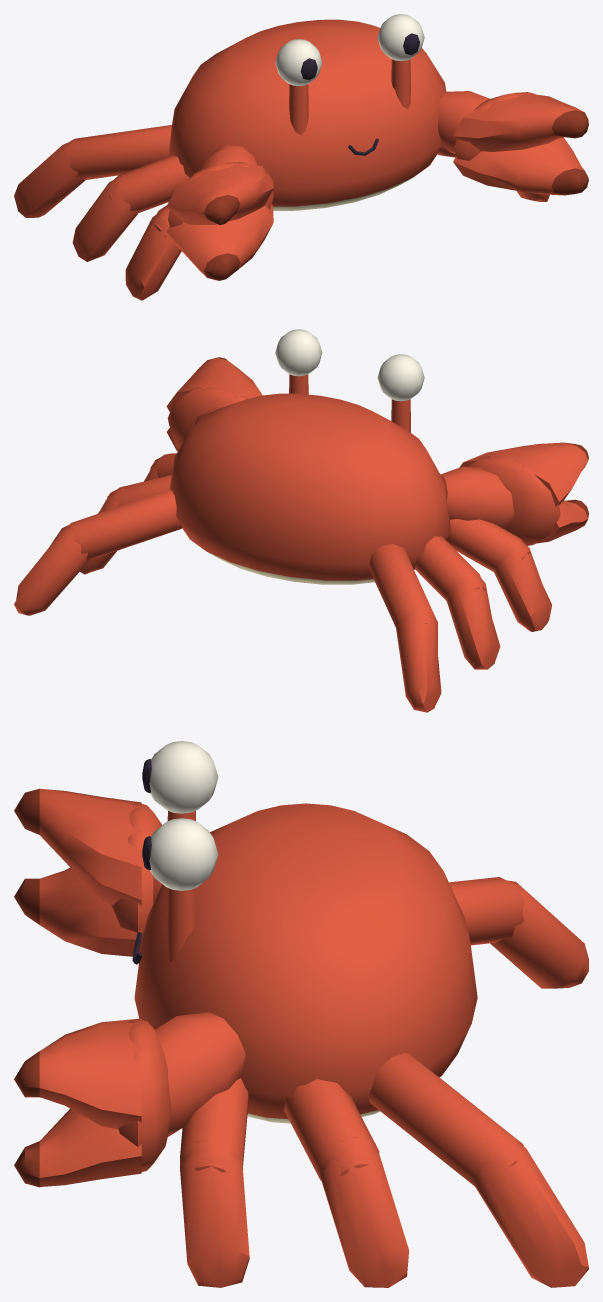
File: crab.glb
The picture shows the model from 3 angles, top to bottom: view 1: azimuth 30°, elevation 25°; view 2: azimuth 150°, elevation 25°; view 3: azimuth 270°, elevation 25°; orthographic projection. The views are drawn at different scales.
Parts seen in each view (by area): view 1: Body, LegsR, ClawL, ClawR; view 2: Body, LegsR, ClawR, LegsL, ClawL; view 3: Body, LegsL, ClawL, ClawR, LegsR.
Boxes of the visible parts, x1=… form: Body: x1=169, y1=14, x2=446, y2=210; LegsR: x1=14, y1=125, x2=189, y2=300; ClawL: x1=438, y1=91, x2=588, y2=195; ClawR: x1=166, y1=145, x2=273, y2=280; Body: x1=169, y1=329, x2=450, y2=584; LegsR: x1=368, y1=519, x2=551, y2=712; ClawR: x1=440, y1=442, x2=588, y2=545; LegsL: x1=14, y1=453, x2=182, y2=615; ClawL: x1=166, y1=357, x2=262, y2=451; Body: x1=132, y1=741, x2=477, y2=1123; LegsL: x1=180, y1=1053, x2=588, y2=1287; ClawL: x1=14, y1=1012, x2=245, y2=1187; ClawR: x1=14, y1=788, x2=162, y2=956; LegsR: x1=449, y1=877, x2=588, y2=988.
Bounding box in the file's own units: 1 × 0.53 × 0.7874.
